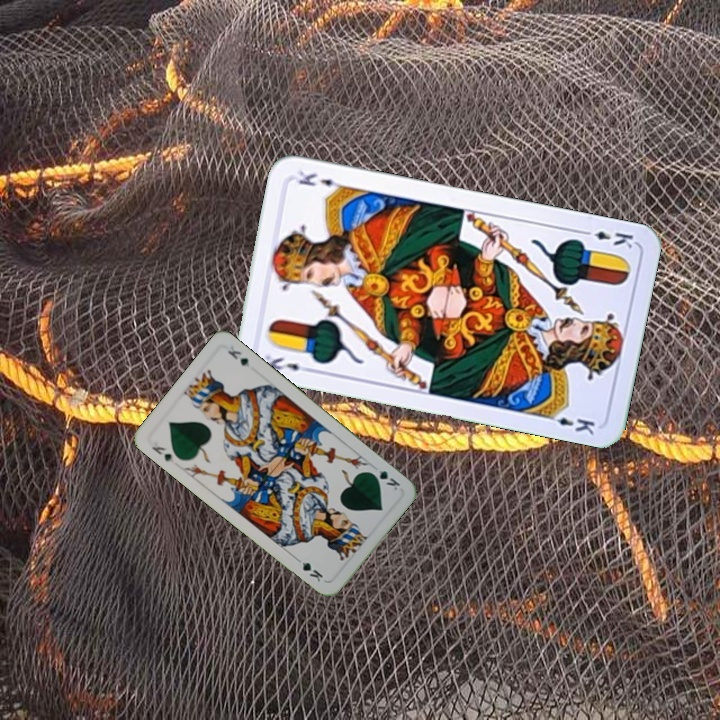EK: (577, 226, 636, 251), (261, 351, 315, 375)
GK: (366, 466, 403, 494), (147, 442, 176, 466)
